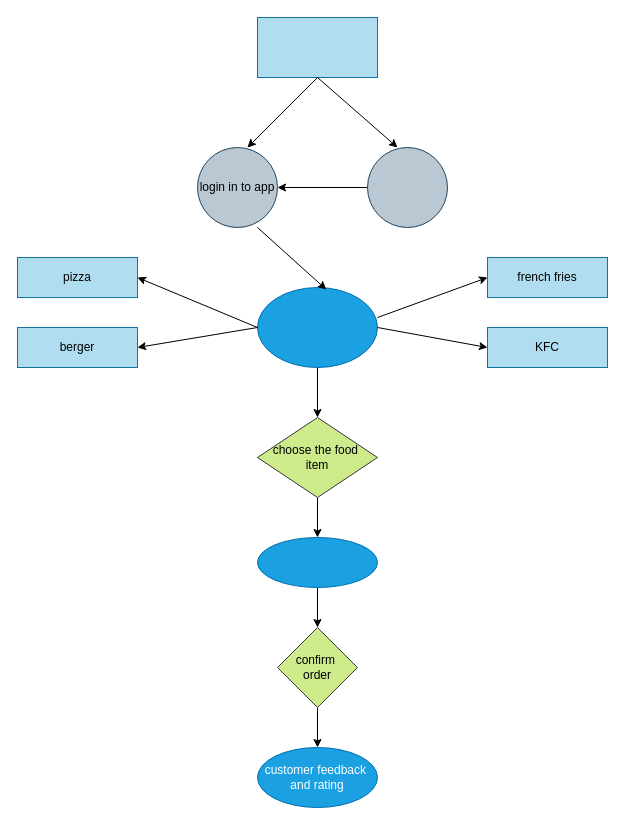
This 625x825 diagram has some shape labels left out. Each missing label, with the box of its shape:
check for the food items: (256, 286, 378, 368)
online payment or cash on delivery: (256, 536, 378, 588)
sign up to app: (366, 146, 448, 228)
user: (256, 16, 378, 78)
